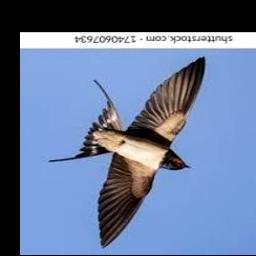Swallow: (48, 56, 206, 249)
